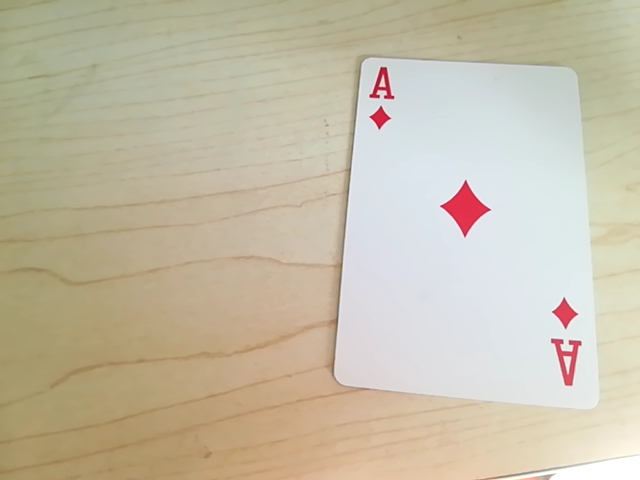fk a: (548, 310, 584, 387), (358, 62, 396, 132)
